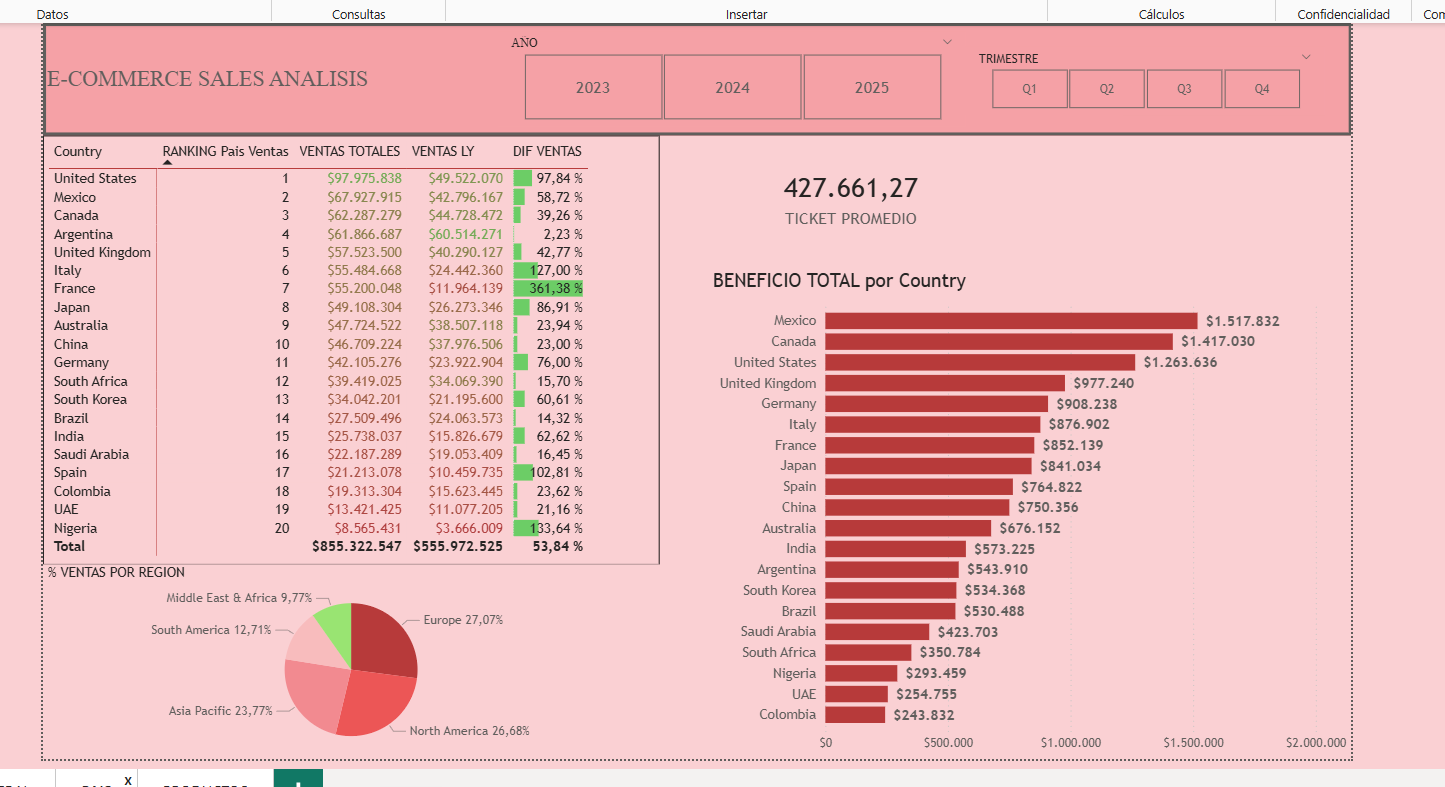

This screenshot's page, from the dashboard's own definition file:
{"tool":"powerbi","page":{"name":"PAIS","canvas":[1280,720],"ordinal":1},"visuals":[{"type":"actionButton","box":[0,0,1280.3,110.1],"z":0},{"type":"slicer","fields":{"Values":["dimCalendario2.AÑO"]},"box":[445.1,8.6,457.3,92.9],"z":1000},{"type":"slicer","fields":{"Values":["dimCalendario2.TRIMESTRE"]},"box":[902.5,23.2,351,67.3],"z":2000},{"type":"pivotTable","fields":{"Rows":["ecomerce.Country"],"Values":["MEDIDAS.RANKING Pais Ventas","MEDIDAS.VENTAS TOTALES","MEDIDAS.VENTAS LY","MEDIDAS.DIF VENTAS"]},"box":[0,109.8,603.2,419.8],"z":3000},{"type":"barChart","fields":{"Category":["ecomerce.Country"],"Y":["MEDIDAS.BENEFICIO TOTAL"]},"box":[650.5,240.9,629.8,479.4],"z":4000},{"type":"pieChart","title":" % VENTAS POR REGION","fields":{"Category":["ecomerce.Region"],"Y":["MEDIDAS.VENTAS TOTALES"]},"box":[0,529.6,603.2,190.6],"z":5000},{"type":"card","fields":{"Values":["MEDIDAS.TICKET PROMEDIO"]},"box":[640.8,119.8,299.6,101.5],"z":5001}]}

Visuals, with their boxes on the page's 1280x720 design canvas (x1, y1, x2, y2). These are canvas units, not pixel positions in the 1445x787 screenshot, which may show the page scaled, cropped or inside an application window:
actionButton: select_region(0, 0, 1280, 110)
slicer - dimCalendario2.AÑO: select_region(445, 9, 902, 102)
slicer - dimCalendario2.TRIMESTRE: select_region(902, 23, 1254, 90)
pivotTable - ecomerce.Country x MEDIDAS.RANKING Pais Ventas: select_region(0, 110, 603, 530)
barChart - ecomerce.Country x MEDIDAS.BENEFICIO TOTAL: select_region(650, 241, 1280, 720)
" % VENTAS POR REGION" pieChart: select_region(0, 530, 603, 720)
card - MEDIDAS.TICKET PROMEDIO: select_region(641, 120, 940, 221)
